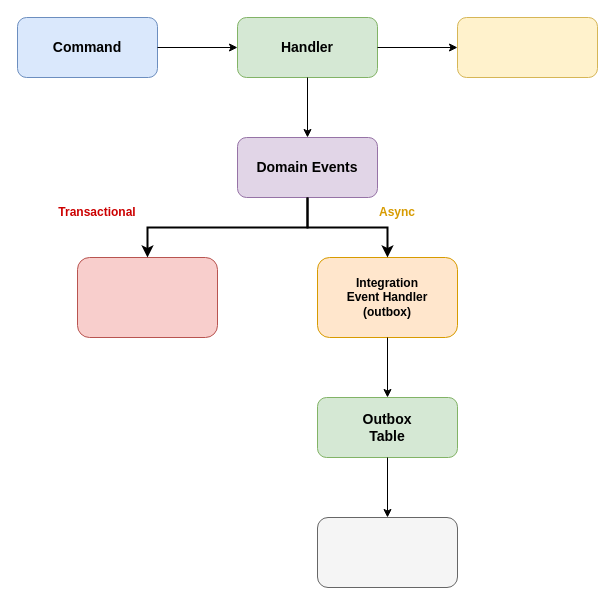
The diagram is 615 pixels wide and 605 high, and some of its shapes have lost their labels. Here are the shapes that lost their labels. From the top down, the box of each, then its label:
(456, 16, 598, 78): Write DB (EF Core)
(76, 256, 218, 338): Transactional Handler (sync, tx)
(316, 516, 458, 588): Background Worker (async proc)
